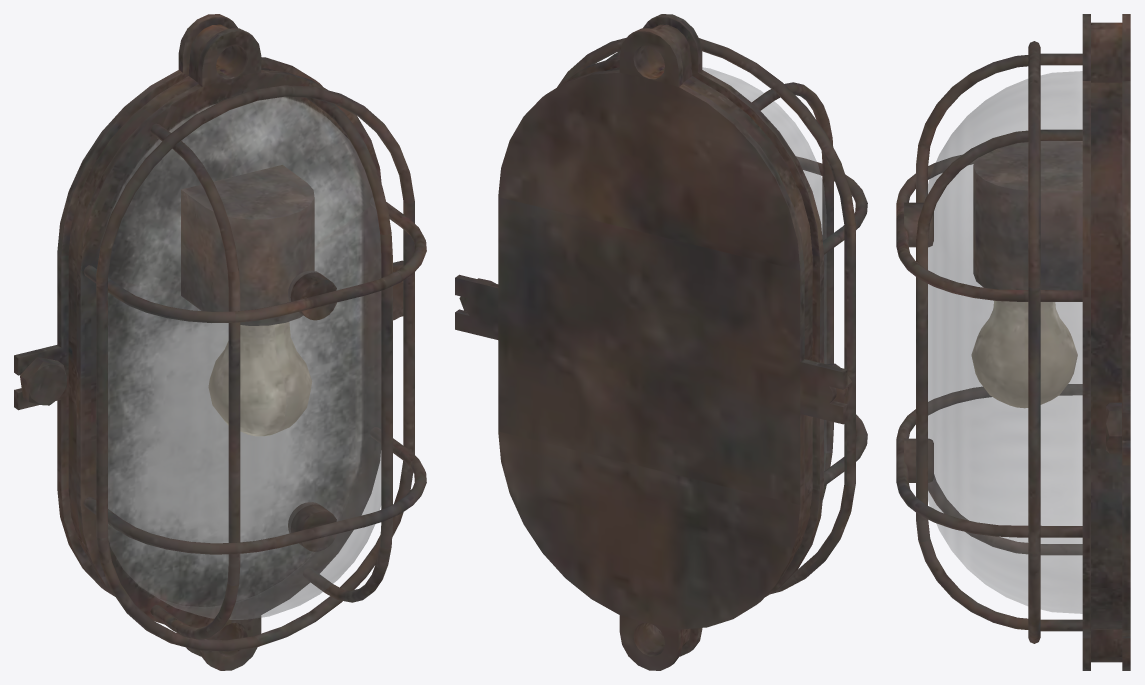
File: industrial_wall_lamp.glb
3 views of the same model, side by side, from view 1: azimuth 30°, elevation 25°; view 2: azimuth 150°, elevation 25°; view 3: azimuth 270°, elevation 25° (orthographic).
Parts seen in each view (by area): view 1: industrial_wall_lamp; view 2: industrial_wall_lamp; view 3: industrial_wall_lamp.
Boxes of the visible parts, <box> form: industrial_wall_lamp: <box>14,14,426,670</box>; industrial_wall_lamp: <box>455,14,867,670</box>; industrial_wall_lamp: <box>896,14,1130,670</box>.
Bounding box in the file's own units: 0.2735 × 0.4299 × 0.1404.
Materials: 2 (2 with a texture image).
